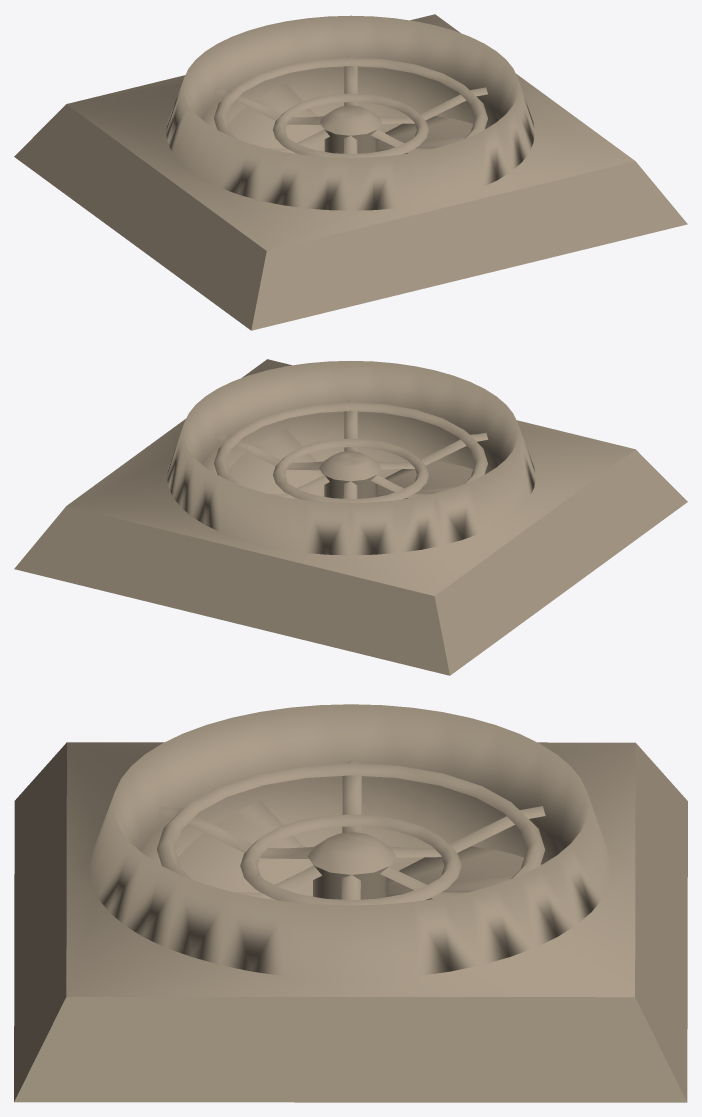
File: Industrial_Fan_2.dae
3 views of the same model, one above another, from view 1: azimuth 30°, elevation 25°; view 2: azimuth 150°, elevation 25°; view 3: azimuth 270°, elevation 25° (orthographic). The views are drawn at different scales.
Parts seen in each view (by area): view 1: Industrial_Fan_1, Industrial_Fan_2; view 2: Industrial_Fan_1, Industrial_Fan_2; view 3: Industrial_Fan_1, Industrial_Fan_2.
Boxes of the visible parts, bbox=[...] form: Industrial_Fan_1: bbox=[14, 14, 687, 330]; Industrial_Fan_2: bbox=[228, 83, 485, 154]; Industrial_Fan_1: bbox=[14, 359, 687, 675]; Industrial_Fan_2: bbox=[228, 429, 485, 499]; Industrial_Fan_1: bbox=[14, 704, 687, 1102]; Industrial_Fan_2: bbox=[178, 800, 541, 900].
Size of the model in its own units: 2.97 by 2.8 by 0.6743.
